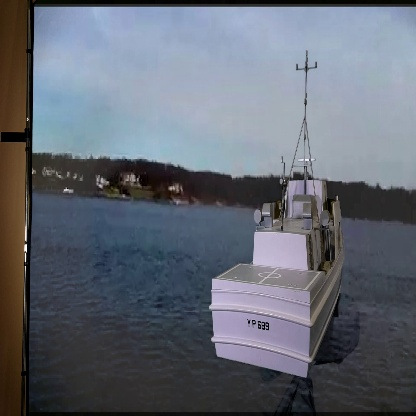YP689: (210, 56, 348, 379)
